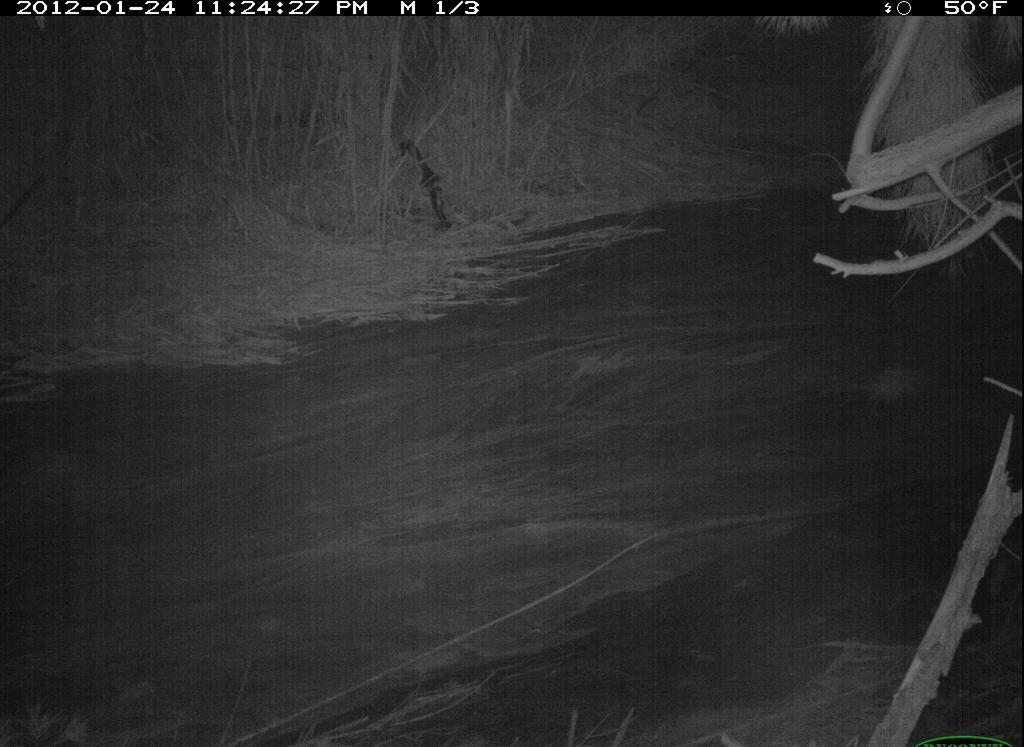opossum: (840, 344, 964, 423)
